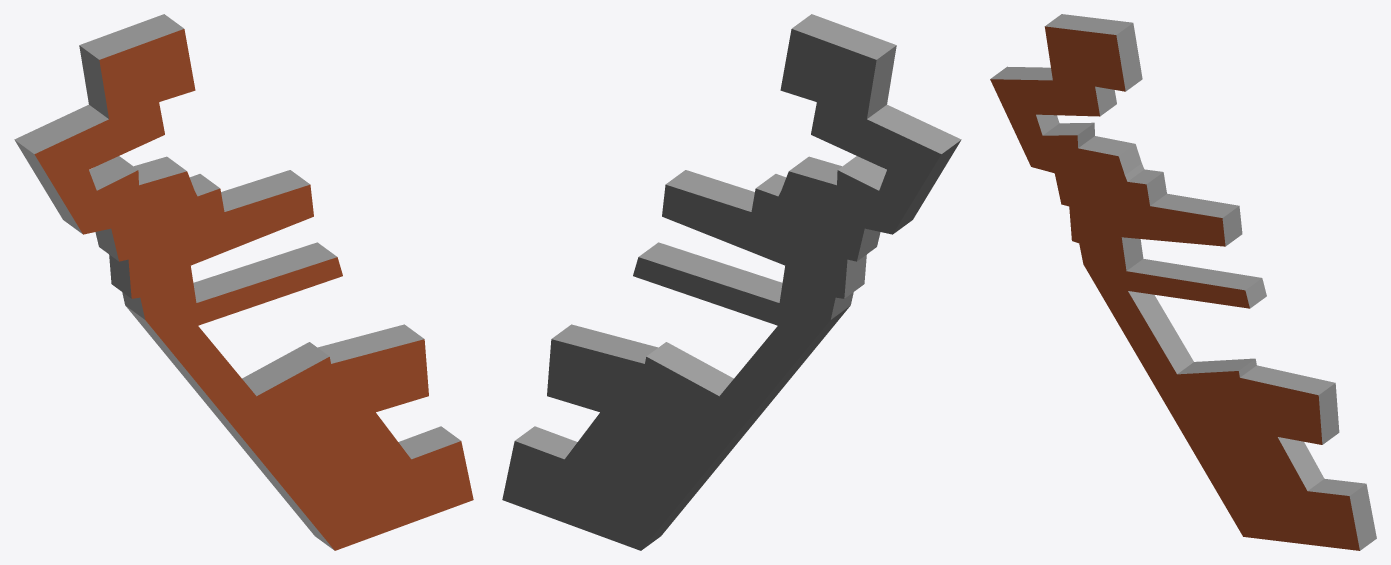
File: construction_4810_assumed_A_Casa_h6m.obj
3 renders of one model, left to right at view 1: azimuth 30°, elevation 25°; view 2: azimuth 150°, elevation 25°; view 3: azimuth 330°, elevation 25°, orthographic. The views are drawn at different scales.
Parts seen in each view (by area): view 1: construction_4810_assumed_A_Casa; view 2: construction_4810_assumed_A_Casa; view 3: construction_4810_assumed_A_Casa.
Part boxes in pixels (x1=…): construction_4810_assumed_A_Casa: x1=14, y1=14, x2=473, y2=550; construction_4810_assumed_A_Casa: x1=502, y1=14, x2=961, y2=550; construction_4810_assumed_A_Casa: x1=990, y1=14, x2=1376, y2=550.
Bounding box in the file's own units: 75.53 × 91.84 × 6.
